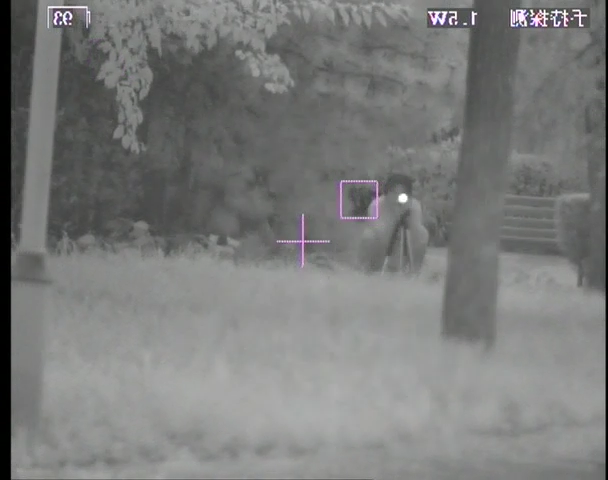my: (398, 192, 409, 205)
